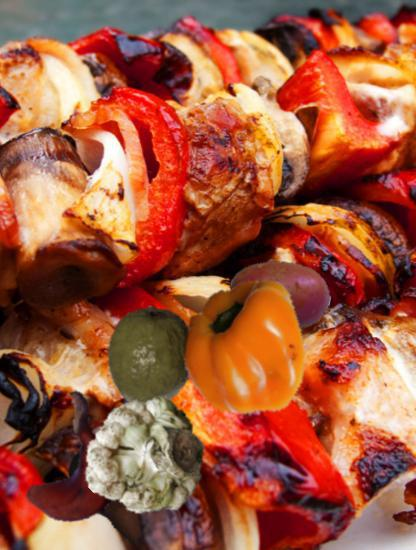Banana: (17, 404, 139, 526)
Cauliflower: (84, 396, 209, 521)
Guava: (100, 306, 205, 411)
Pear: (58, 438, 168, 548)
Pepper: (176, 276, 318, 418)
Potato: (230, 243, 331, 344)
